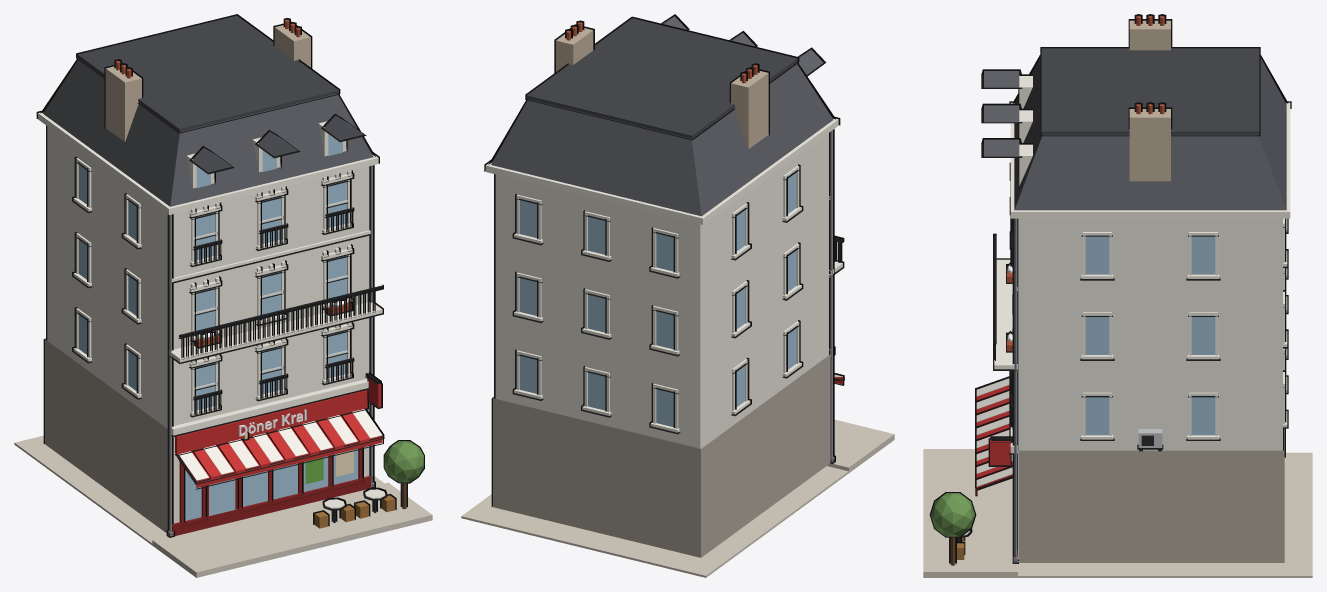
The model's file is Dukkan_doner_kral.fbx.
The picture shows the model from 3 angles, left to right: view 1: azimuth 30°, elevation 25°; view 2: azimuth 150°, elevation 25°; view 3: azimuth 270°, elevation 25°; orthographic projection. The views are drawn at different scales.
Parts seen in each view (by area): view 1: Dukkan_doner_kral; view 2: Dukkan_doner_kral; view 3: Dukkan_doner_kral.
Boxes of the visible parts, left/top/right/bottom form: Dukkan_doner_kral: left=14, top=14, right=432, bottom=577; Dukkan_doner_kral: left=461, top=14, right=894, bottom=577; Dukkan_doner_kral: left=923, top=14, right=1312, bottom=577.
Size of the model in its own units: 10.06 by 17.06 by 13.18.
